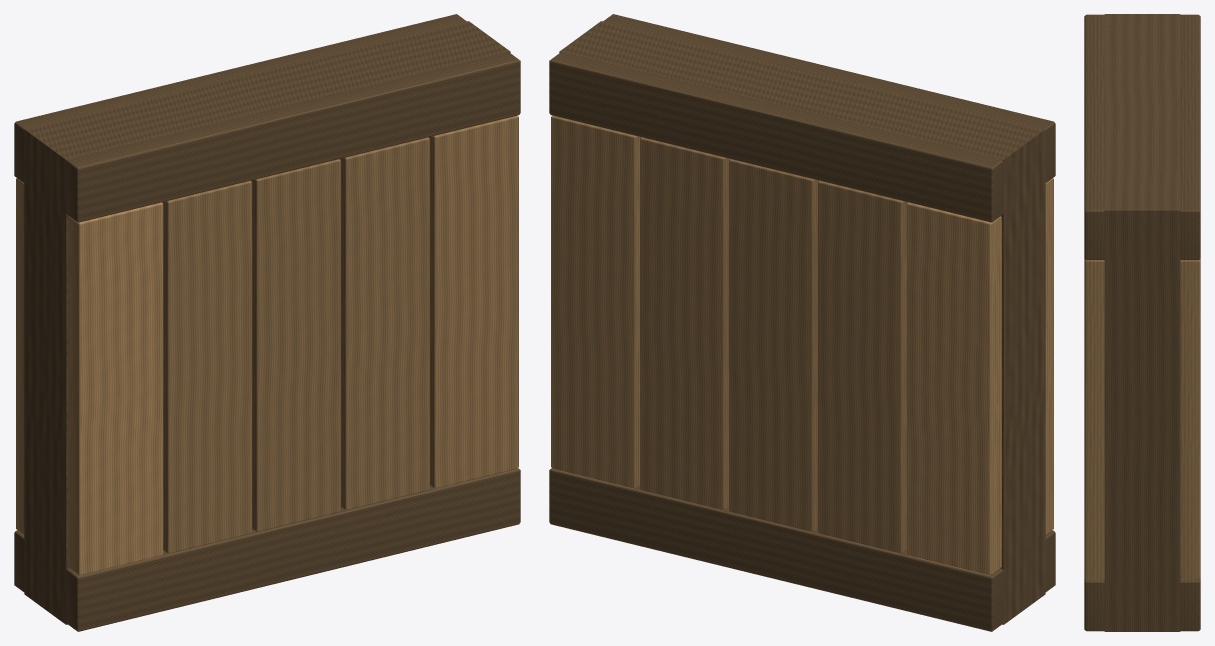
File: wall_panel.glb
The picture shows the model from 3 angles, left to right: view 1: azimuth 30°, elevation 25°; view 2: azimuth 150°, elevation 25°; view 3: azimuth 270°, elevation 25°; orthographic projection. The views are drawn at different scales.
Parts seen in each view (by area): view 1: Wall backing, Wall board 1 0, Wall board 1 1, Wall board 1 2, Wall board 1 4, Wall board 1 3, Wall rail.003, Wall rail.002, Wall rail.001, Wall board -1 0; view 2: Wall backing, Wall board -1 0, Wall board -1 1, Wall board -1 2, Wall board -1 4, Wall board -1 3, Wall rail.001, Wall rail, Wall rail.003, Wall board 1 0; view 3: Wall backing, Wall board -1 4, Wall board 1 4, Wall rail.001, Wall rail.003, Wall rail, Wall rail.002.
Boxes of the visible parts, box(x1,y1,x2,y2) form: Wall backing: box(24, 21, 510, 624); Wall board 1 0: box(68, 202, 163, 575); Wall board 1 1: box(162, 180, 252, 553); Wall board 1 2: box(251, 159, 341, 532); Wall board 1 4: box(428, 116, 518, 488); Wall board 1 3: box(340, 137, 429, 510); Wall rail.003: box(66, 52, 520, 222); Wall rail.002: box(66, 468, 520, 631); Wall rail.001: box(14, 14, 466, 182); Wall board -1 0: box(16, 178, 24, 534); Wall backing: box(559, 21, 1045, 624); Wall board -1 0: box(906, 202, 1001, 575); Wall board -1 1: box(817, 180, 907, 553); Wall board -1 2: box(728, 159, 818, 532); Wall board -1 4: box(551, 116, 641, 488); Wall board -1 3: box(640, 137, 729, 510); Wall rail.001: box(549, 52, 1003, 222); Wall rail: box(549, 468, 1003, 631); Wall rail.003: box(603, 14, 1055, 182); Wall board 1 0: box(1045, 178, 1053, 534); Wall backing: box(1104, 14, 1180, 631); Wall board -1 4: box(1180, 259, 1200, 579); Wall board 1 4: box(1084, 259, 1104, 579); Wall rail.001: box(1180, 14, 1200, 260); Wall rail.003: box(1084, 14, 1104, 260); Wall rail: box(1180, 578, 1200, 631); Wall rail.002: box(1084, 578, 1104, 631).
Size of the model in its own units: 1 by 1 by 0.25.
Materials: 6 (6 with a texture image).
